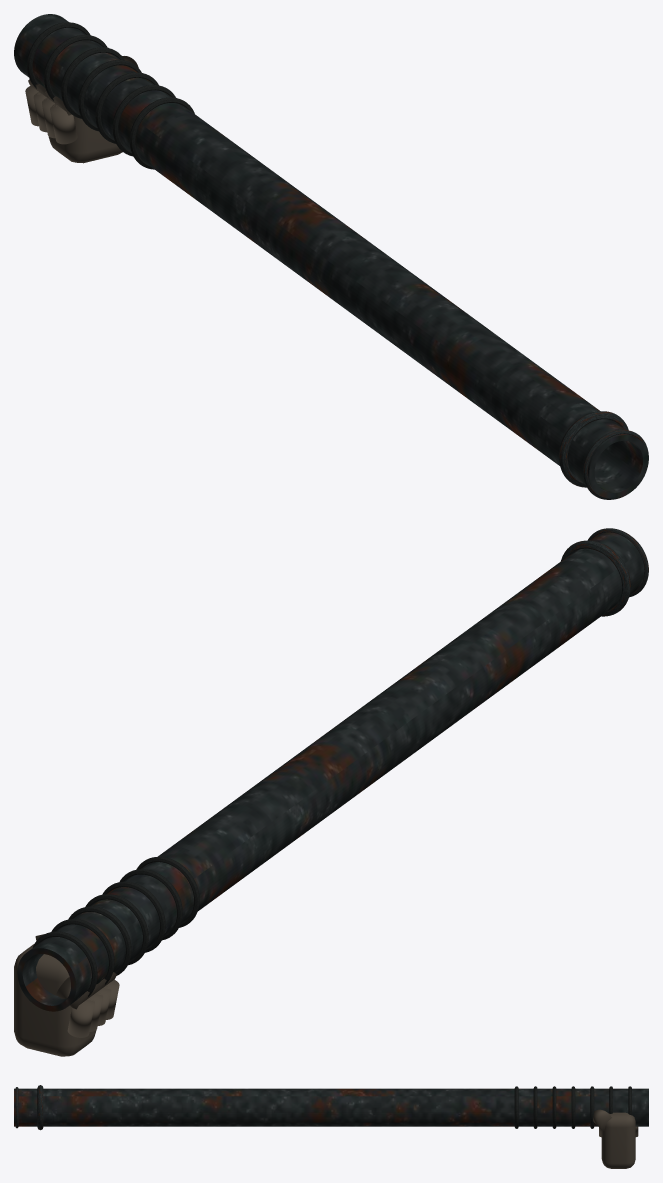
File: pipe.glb
3 views of the same model, one above another, from view 1: azimuth 30°, elevation 25°; view 2: azimuth 150°, elevation 25°; view 3: azimuth 270°, elevation 25° (orthographic). The views are drawn at different scales.
Visible parts, largest first — view 1: Open hollow steel tube, gloved palm, Oxidized threaded collar, curled finger distal, Frayed dark cloth winding.006, Frayed dark cloth winding.005, Frayed dark cloth winding.002, Frayed dark cloth winding.004, Frayed dark cloth winding.003; view 2: Open hollow steel tube, gloved palm, Oxidized threaded collar, curled finger distal.003; view 3: Open hollow steel tube, gloved palm, Oxidized threaded collar, thumb, Frayed dark cloth winding.003, Frayed dark cloth winding.004, Frayed dark cloth winding.005, Frayed dark cloth winding.006, Frayed dark cloth winding.002, Threaded end lip.
Boxes of the visible parts, bbox=[...] form: Open hollow steel tube: bbox=[14, 14, 648, 498]; gloved palm: bbox=[48, 47, 122, 163]; Oxidized threaded collar: bbox=[558, 411, 628, 487]; curled finger distal: bbox=[50, 104, 77, 144]; Frayed dark cloth winding.006: bbox=[129, 97, 194, 169]; Frayed dark cloth winding.005: bbox=[112, 85, 175, 156]; Frayed dark cloth winding.002: bbox=[61, 47, 124, 118]; Frayed dark cloth winding.004: bbox=[95, 72, 158, 143]; Frayed dark cloth winding.003: bbox=[78, 60, 141, 131]; Open hollow steel tube: bbox=[17, 532, 644, 1011]; gloved palm: bbox=[14, 944, 96, 1056]; Oxidized threaded collar: bbox=[561, 540, 630, 616]; curled finger distal.003: bbox=[67, 999, 94, 1037]; Open hollow steel tube: bbox=[14, 1088, 648, 1126]; gloved palm: bbox=[601, 1112, 635, 1168]; Oxidized threaded collar: bbox=[37, 1085, 43, 1130]; thumb: bbox=[593, 1109, 611, 1131]; Frayed dark cloth winding.003: bbox=[571, 1086, 575, 1128]; Frayed dark cloth winding.004: bbox=[552, 1086, 556, 1128]; Frayed dark cloth winding.005: bbox=[533, 1086, 537, 1128]; Frayed dark cloth winding.006: bbox=[514, 1086, 518, 1128]; Frayed dark cloth winding.002: bbox=[590, 1086, 594, 1128]; Threaded end lip: bbox=[15, 1087, 18, 1128].
Bounding box in the file's own units: 0.0744 × 0.104 × 0.84.
3 materials, 2 textured.
